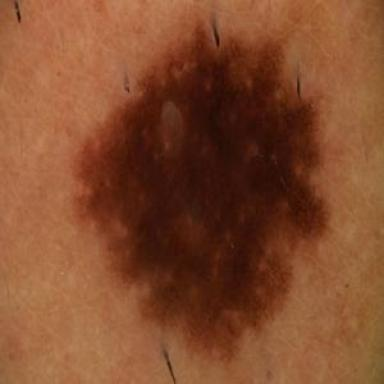Melanoma: (73, 21, 328, 360)
